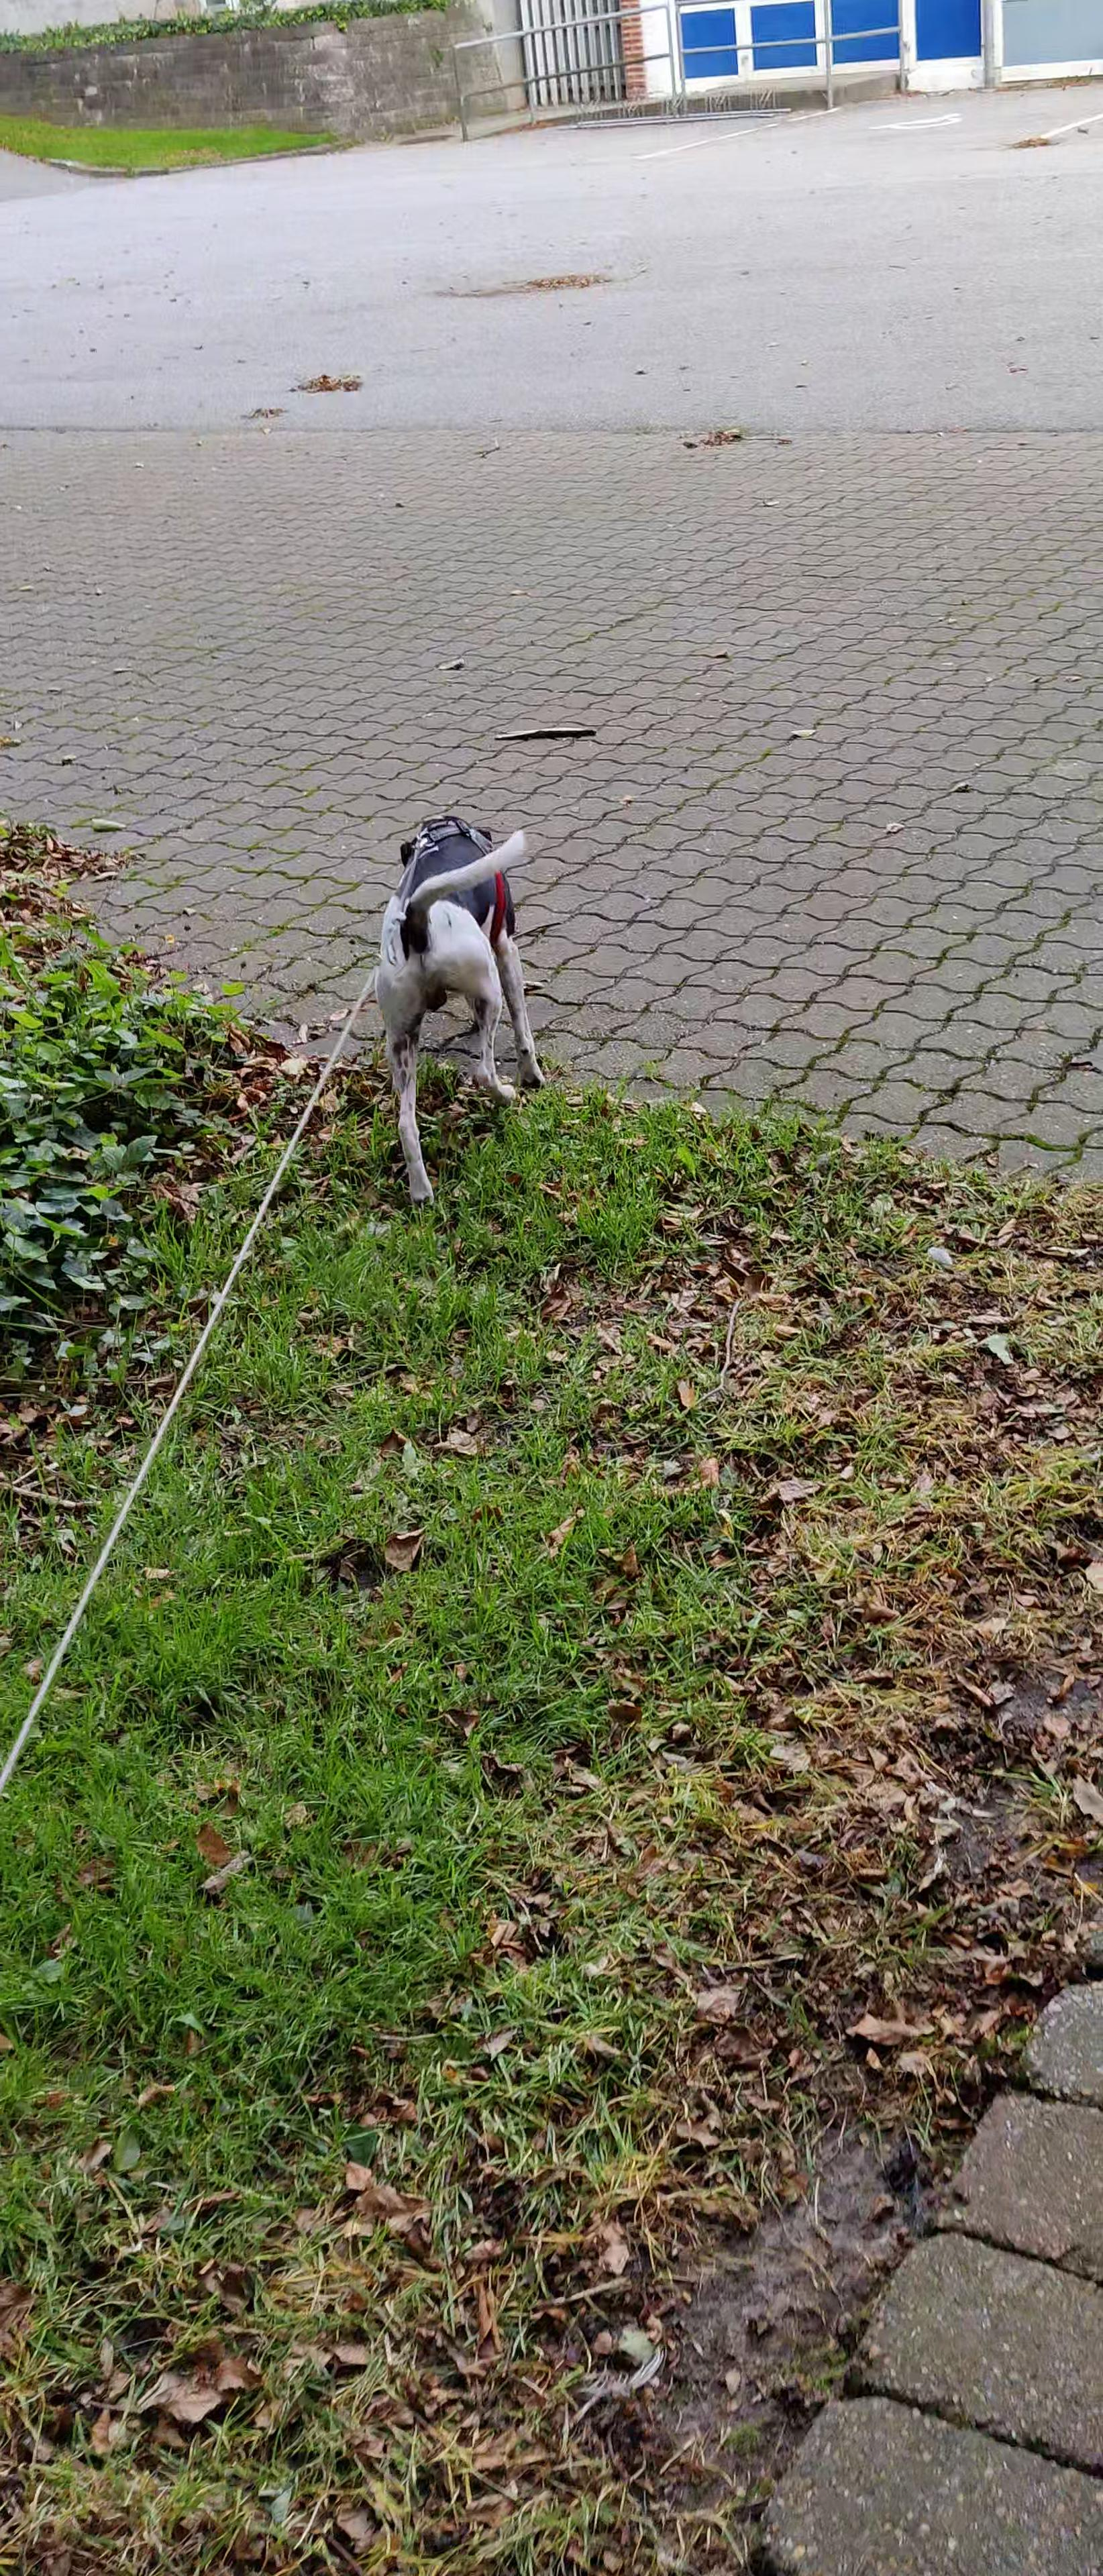Dog: (365, 800, 544, 1203)
